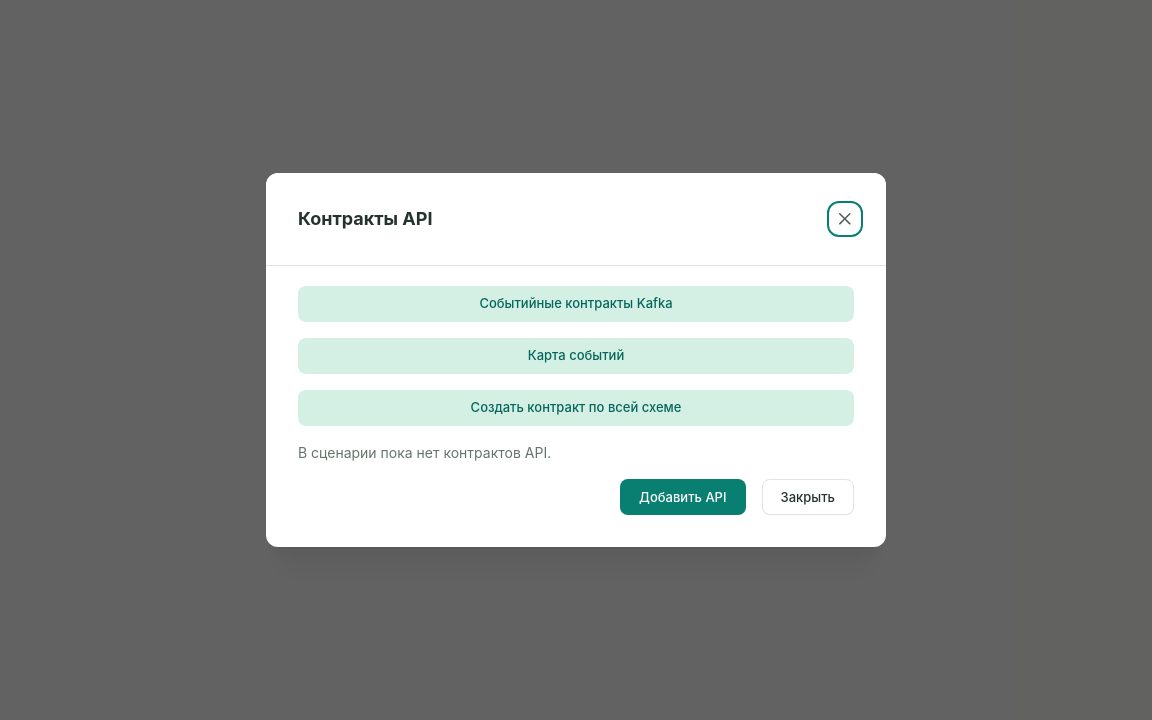
Test: shows one modal while editing events from the contracts panel
The width and height of the screenshot is (1152, 720).
Click the button "Событийные контракты Kafka" at (576, 304), box x1=298 y1=286 x2=854 y2=322
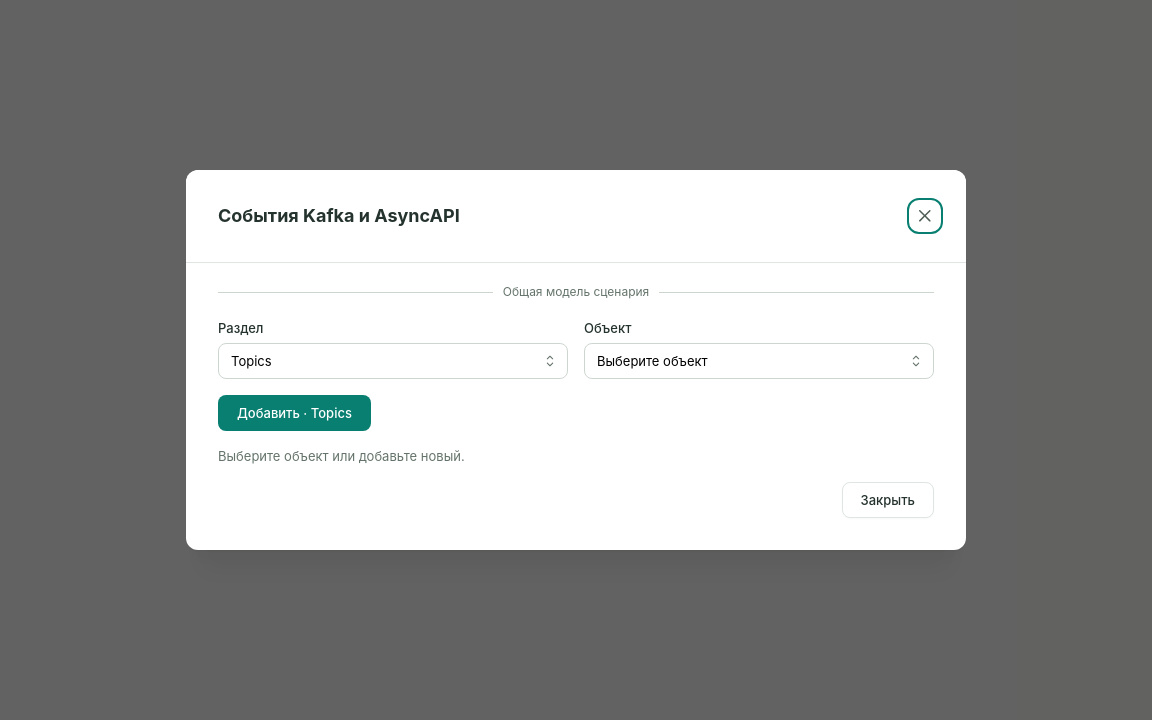
Expected: the number of dialogs is 1, x1=186 y1=170 x2=966 y2=550
Click the button "Закрыть" at (888, 500), box x1=842 y1=482 x2=934 y2=518
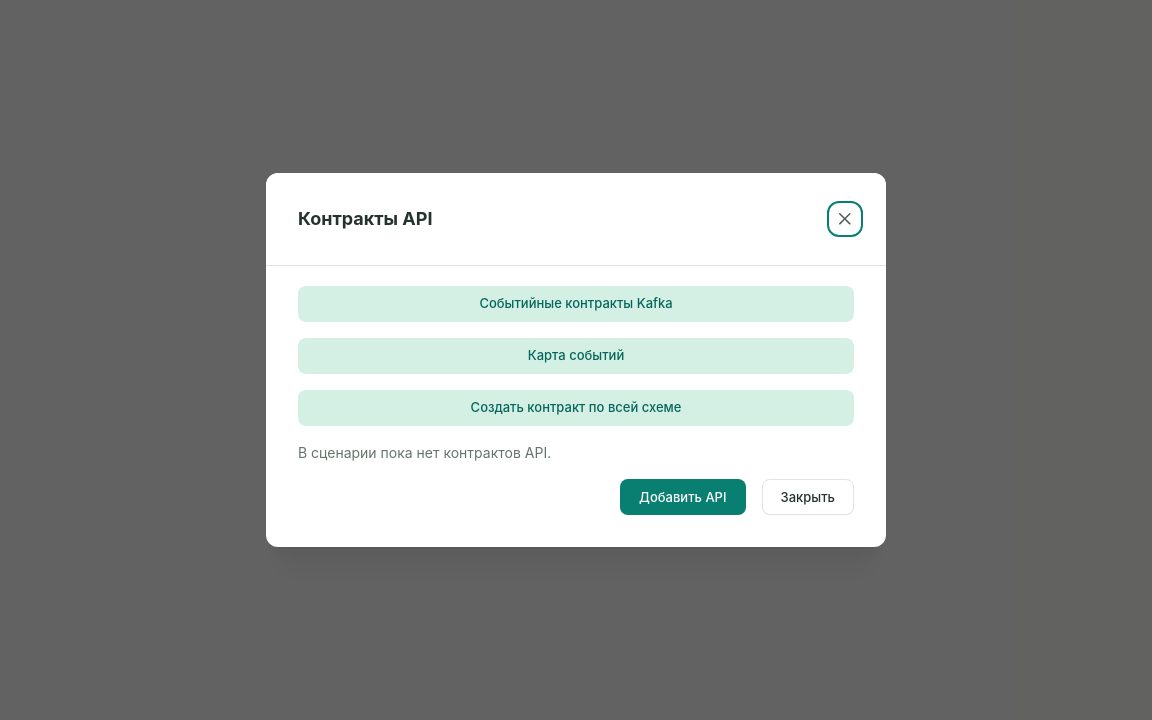
Expected: the number of dialogs is 1, x1=266 y1=173 x2=886 y2=547
Expected: the dialog "Контракты API" is shown, x1=266 y1=173 x2=886 y2=547
